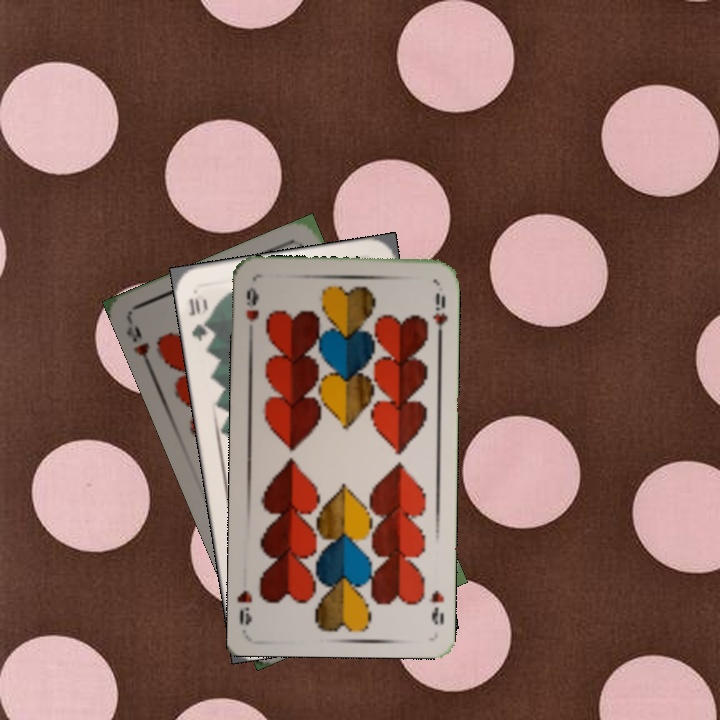G10: (185, 293, 214, 344)
H9: (122, 321, 155, 373), (242, 283, 261, 340), (426, 586, 447, 627)
